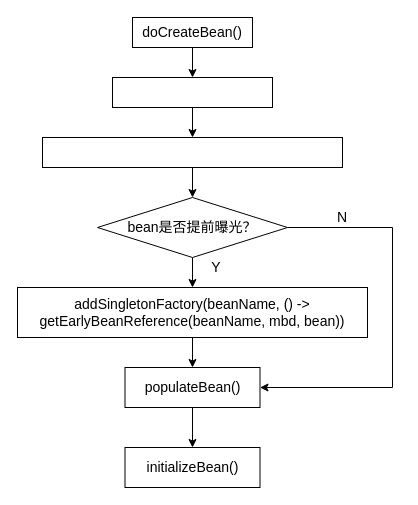
The diagram is 418 pixels wide and 505 high, and some of its shapes have lost their labels. Here are the shapes that lost their labels. From the top down, the box of each, then its label:
(112, 76, 272, 108): createBeanInstance()
(42, 136, 342, 168): applyMergedBeanDefinitionPostProcessors()
